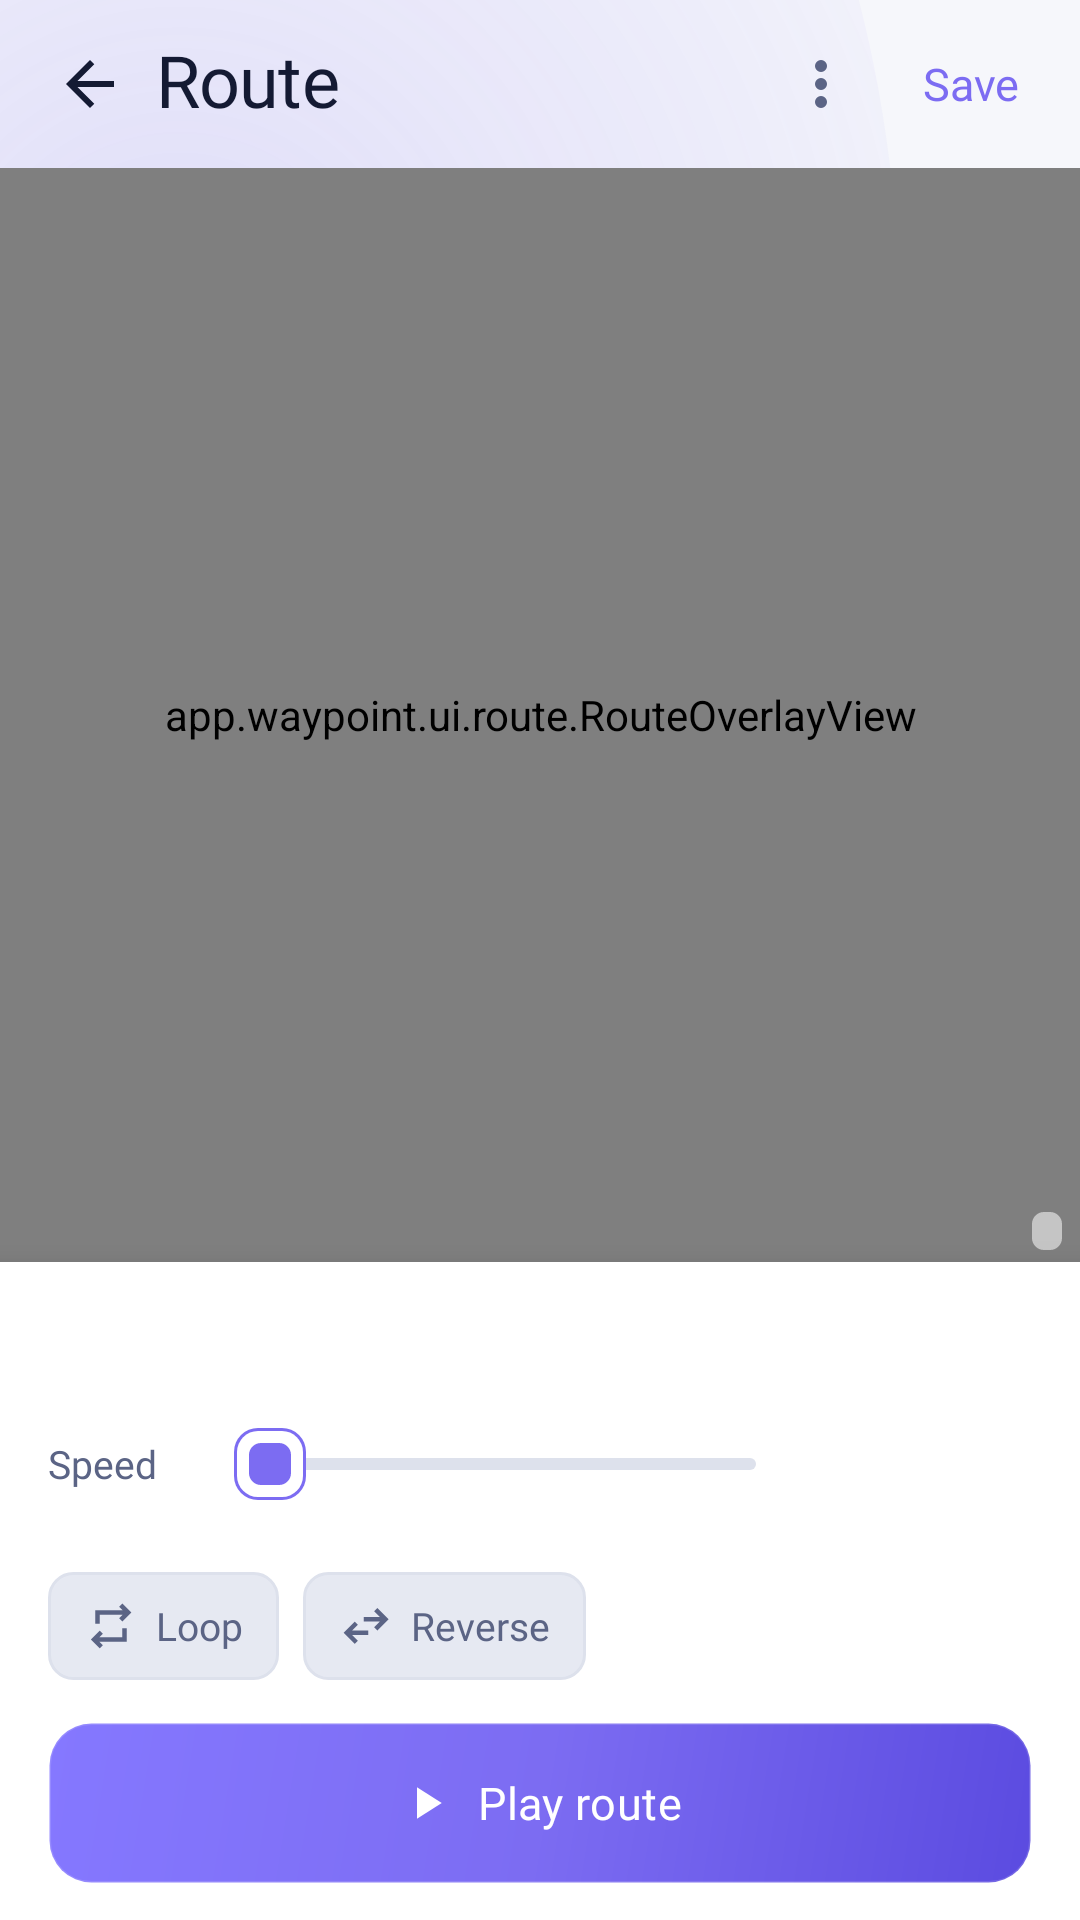

Named icons in this screenshot (1080px×1920px) and their bounding boxes, (x1, y1, x2, y2):
arrow back: (66, 60, 114, 108)
more vert: (815, 60, 827, 108)
repeat: (91, 1603, 131, 1648)
swap horiz: (344, 1608, 389, 1644)
